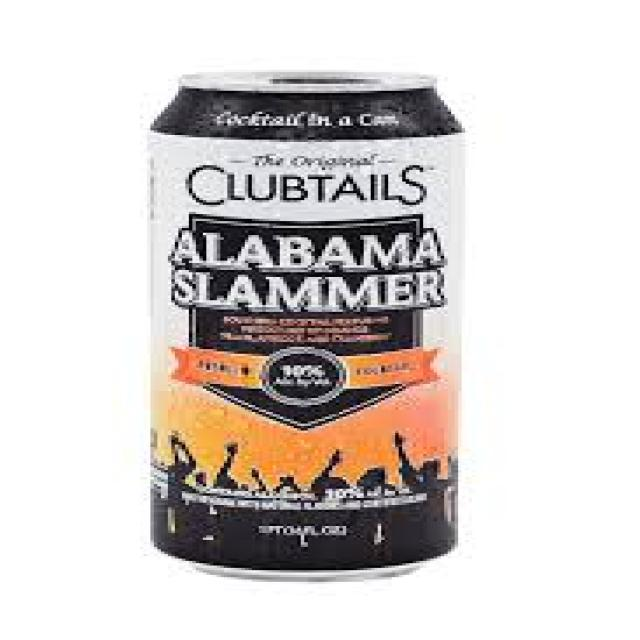Cans: (140, 65, 465, 589)
